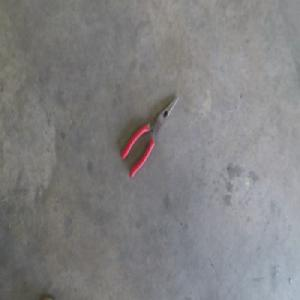Pliers: (121, 96, 179, 179)
